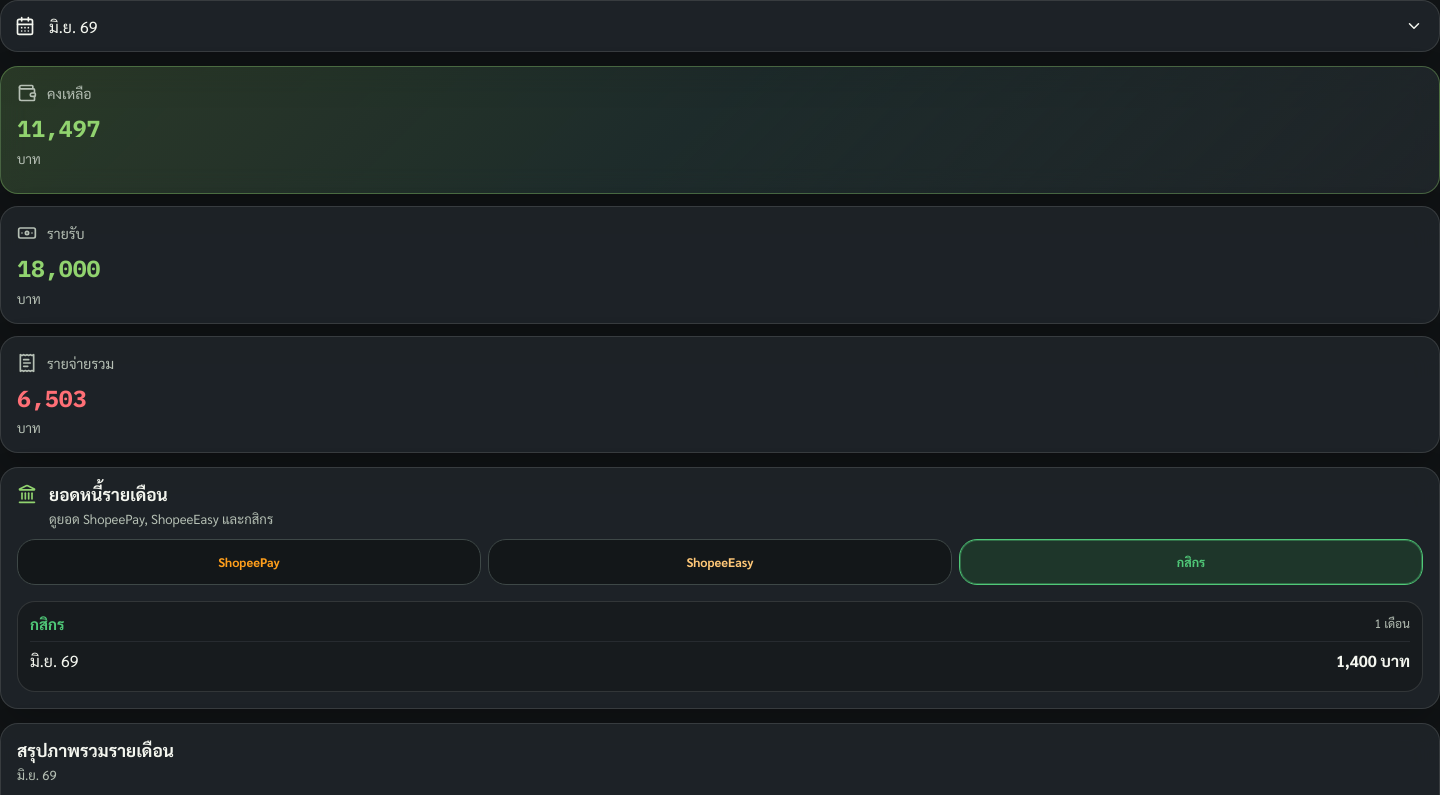
Test: view composition › removes edit forms from the month view and shows one debt group at a time
Expected: the text "1,400 บาท" is shown, [1336,650,1410,671]
Expected: the text "865 บาท" is not shown
Click the tab "ShopeePay". click: (249, 562)
box: [17,539,481,585]
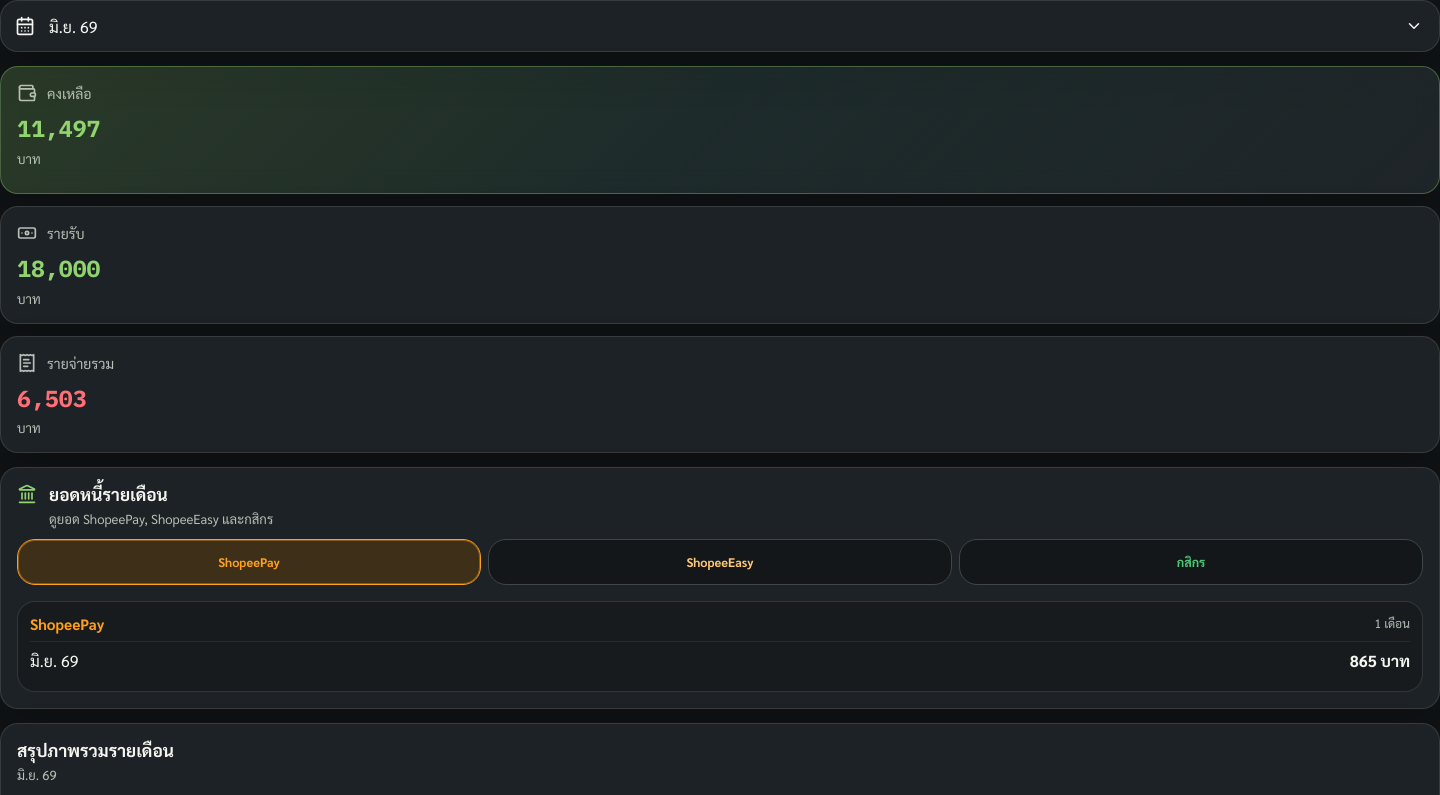
Result: the text "865 บาท" is shown at [1350,650,1410,671]
Result: the text "1,400 บาท" is gone
